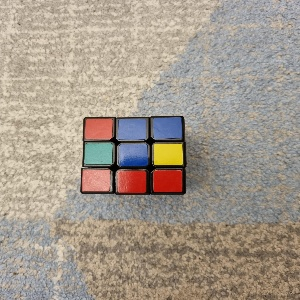cube: (80, 117, 188, 195)
